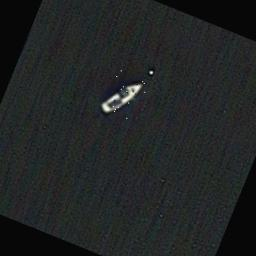boat: (94, 66, 150, 125)
